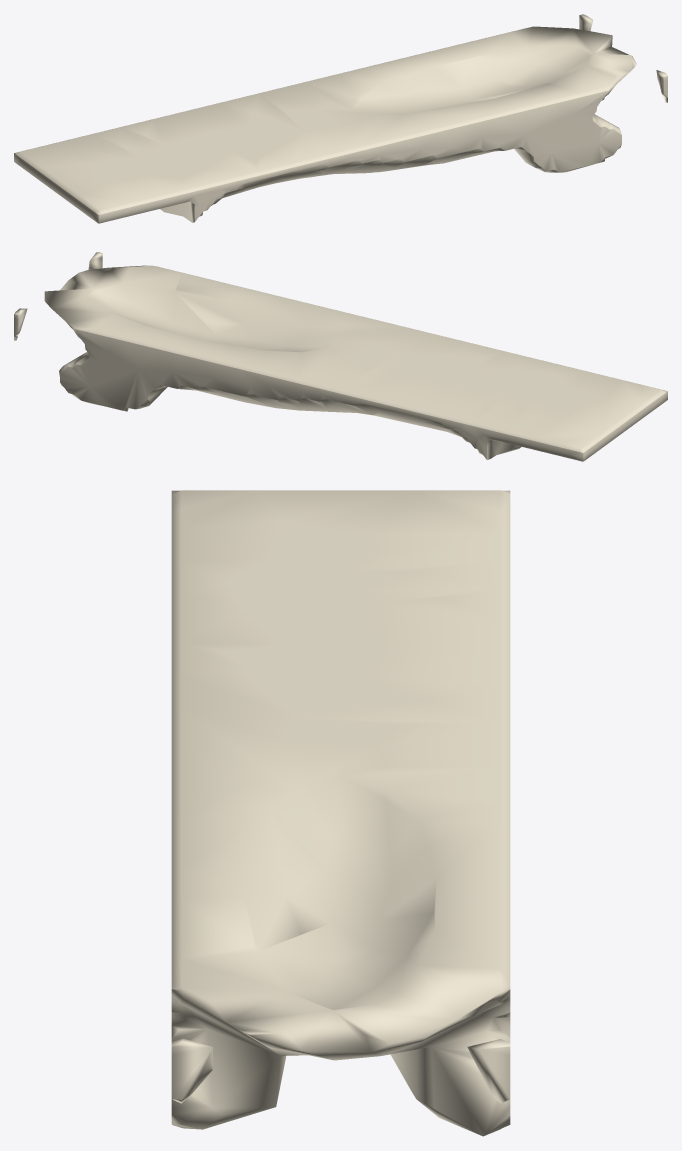
The model's file is sphenoid.glb.
The picture shows the model from 3 angles, top to bottom: view 1: azimuth 30°, elevation 25°; view 2: azimuth 150°, elevation 25°; view 3: azimuth 270°, elevation 25°; orthographic projection. The views are drawn at different scales.
Parts seen in each view (by area): view 1: geometry_0; view 2: geometry_0; view 3: geometry_0.
Boxes of the visible parts, bbox=[...] form: geometry_0: bbox=[14, 14, 667, 223]; geometry_0: bbox=[14, 252, 667, 461]; geometry_0: bbox=[171, 490, 510, 1136].
Size of the model in its own units: 0.546 by 0.071 by 0.14.
